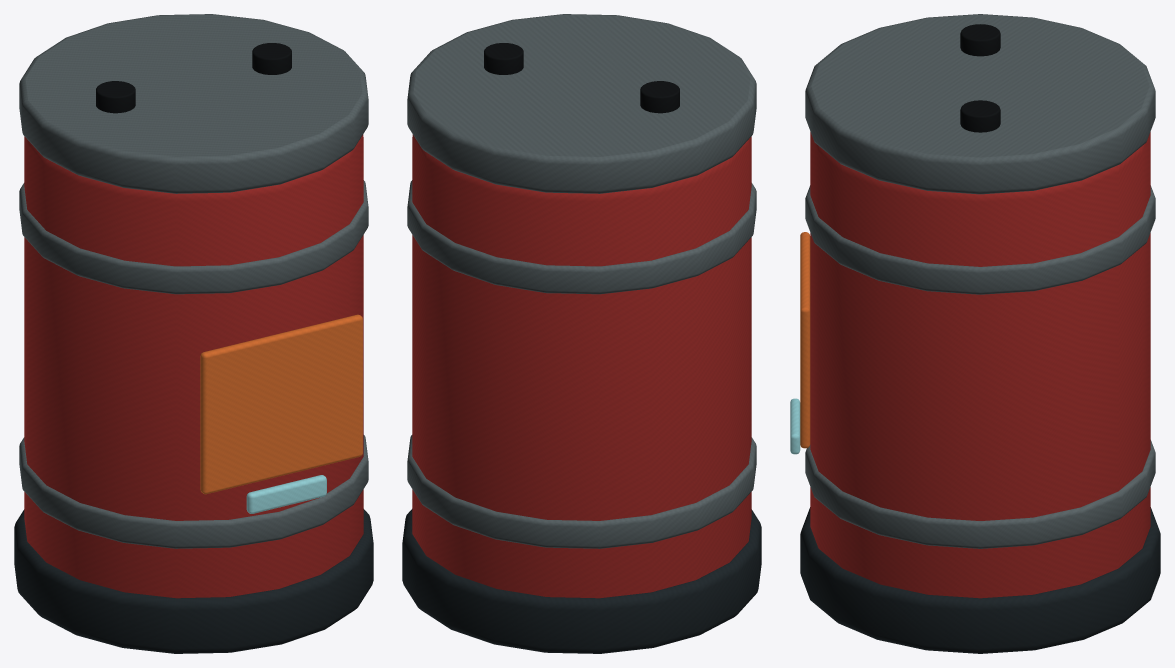
The model's file is HazardBarrel.glb.
The picture shows the model from 3 angles, left to right: view 1: azimuth 30°, elevation 25°; view 2: azimuth 150°, elevation 25°; view 3: azimuth 270°, elevation 25°; orthographic projection.
Visible parts, largest first — view 1: HazardBarrel_Mesh; view 2: HazardBarrel_Mesh; view 3: HazardBarrel_Mesh.
Boxes of the visible parts, x1,y1,x2,y2 form: HazardBarrel_Mesh: [14, 14, 373, 653]; HazardBarrel_Mesh: [402, 14, 761, 653]; HazardBarrel_Mesh: [790, 14, 1160, 653].
Size of the model in its own units: 0.72 by 1.12 by 0.74.
Materials: 6 (6 with a texture image).
